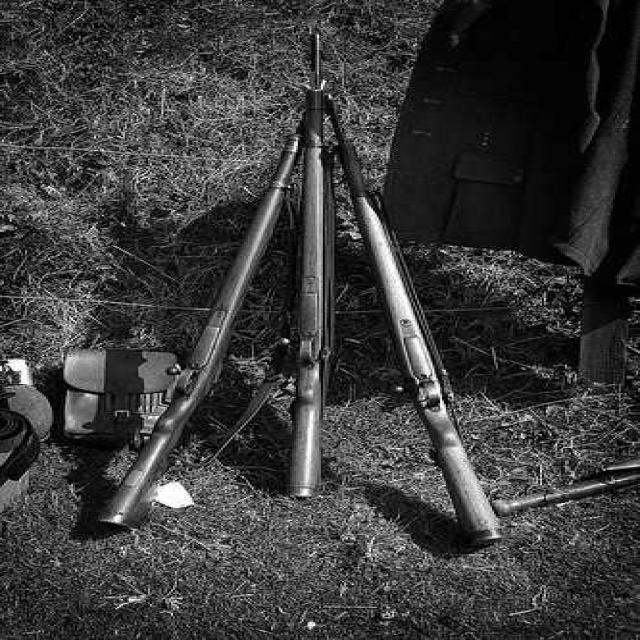weapon: (252, 21, 358, 508)
